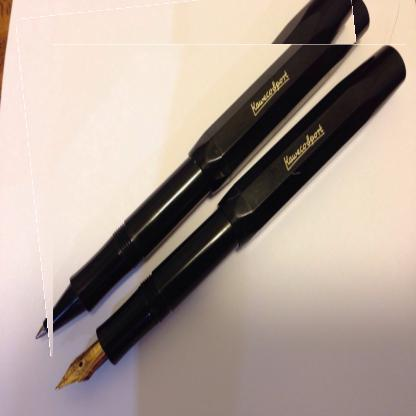Pen: (24, 0, 378, 350), (53, 44, 407, 391)
